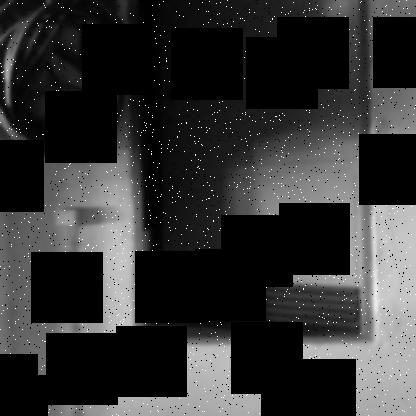Porte: (132, 1, 378, 347)
